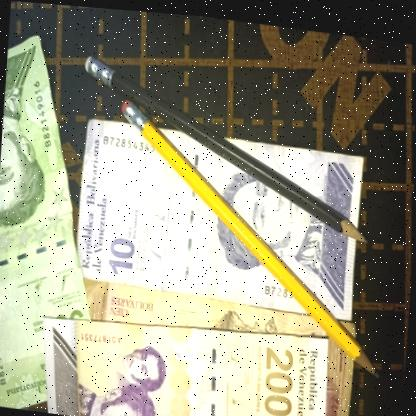fifty-front-vef: (0, 29, 110, 416)
ten-front-vef: (73, 114, 363, 315)
two_hundred-front-vef: (35, 297, 334, 416)
